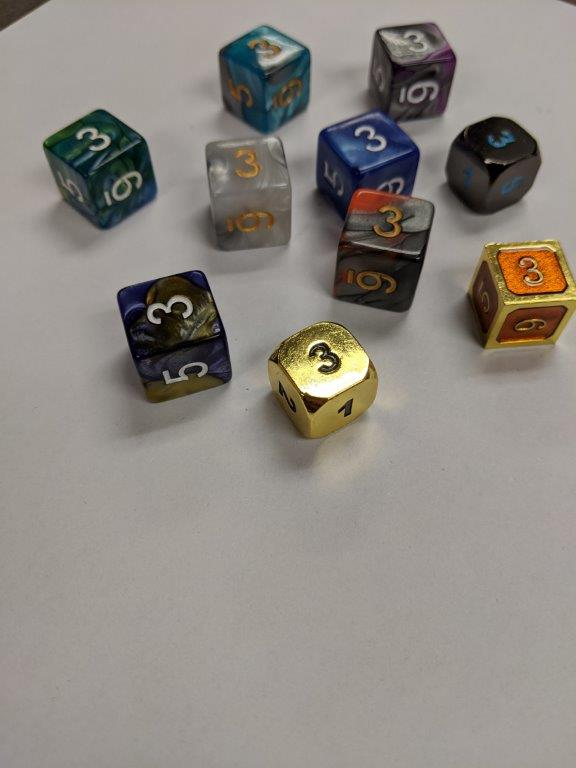d6-3: (119, 267, 235, 407), (40, 107, 158, 234), (268, 319, 379, 442), (327, 190, 437, 314), (463, 239, 576, 352), (316, 109, 422, 213), (204, 136, 296, 254), (215, 23, 312, 134), (442, 114, 542, 217), (371, 22, 455, 123)
